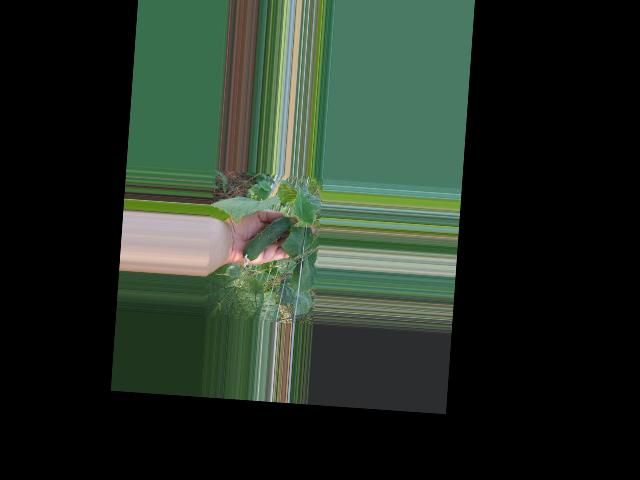cucumber: (241, 214, 292, 270)
